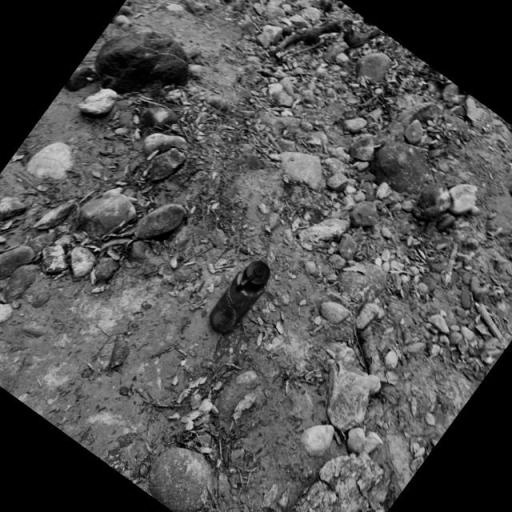bottle: (202, 252, 278, 342)
